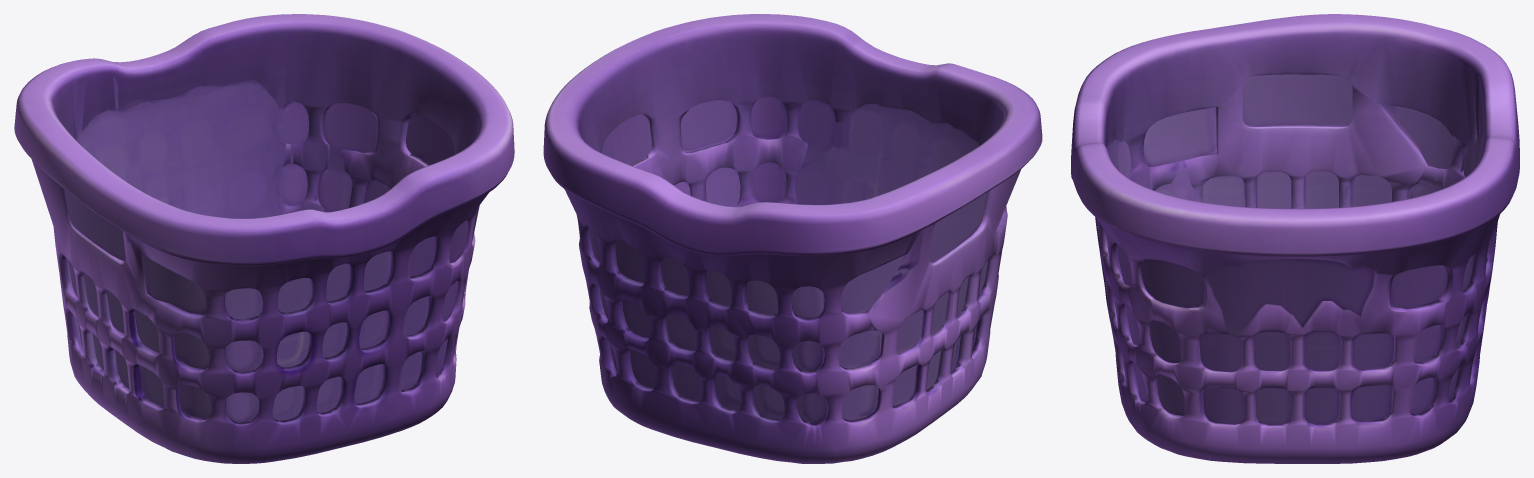
File: purple basket 3d model.glb
The picture shows the model from 3 angles, left to right: view 1: azimuth 30°, elevation 25°; view 2: azimuth 150°, elevation 25°; view 3: azimuth 270°, elevation 25°; orthographic projection. The views are drawn at different scales.
Visible parts, largest first — view 1: tripo_node_1098cfad-ddac-407f-a5b8-91d28650e772; view 2: tripo_node_1098cfad-ddac-407f-a5b8-91d28650e772; view 3: tripo_node_1098cfad-ddac-407f-a5b8-91d28650e772.
Boxes of the visible parts, x1=… form: tripo_node_1098cfad-ddac-407f-a5b8-91d28650e772: x1=14, y1=14, x2=514, y2=463; tripo_node_1098cfad-ddac-407f-a5b8-91d28650e772: x1=543, y1=14, x2=1042, y2=463; tripo_node_1098cfad-ddac-407f-a5b8-91d28650e772: x1=1071, y1=14, x2=1519, y2=463.
Bounding box in the file's own units: 0.9995 × 0.6665 × 0.9263.
Materials: 1 (1 with a texture image).
